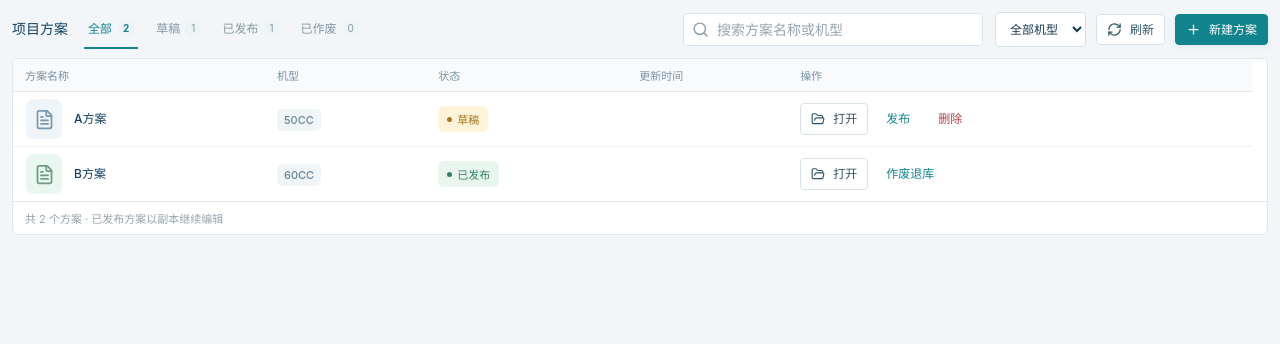
Test: experience regressions › combines status, machine and name filters without mixing machines
Click the button "草稿 1" at (178, 30), box [152,10,204,49]
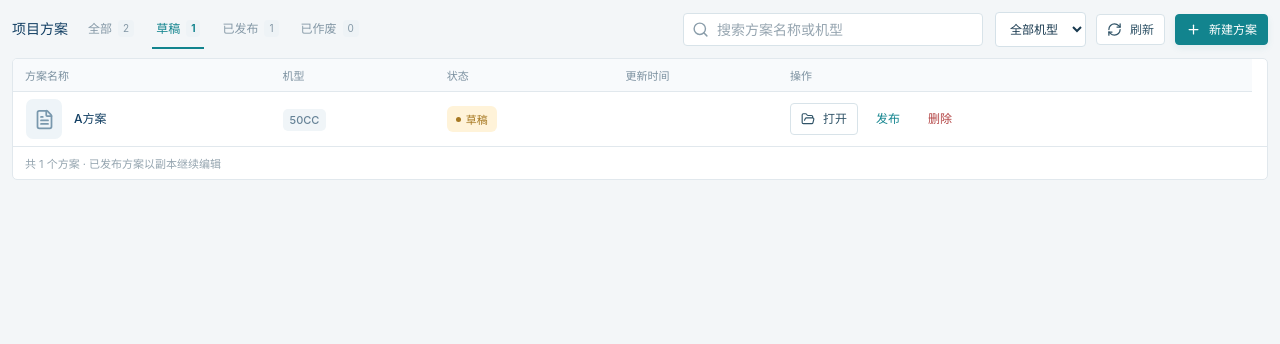
Expected: the text "A方案" is shown, [74,111,106,126]
Expected: the button "B方案" is gone
Select "60CC" in the dropdown named "方案机型" at (1040, 30), box [995,12,1086,47]
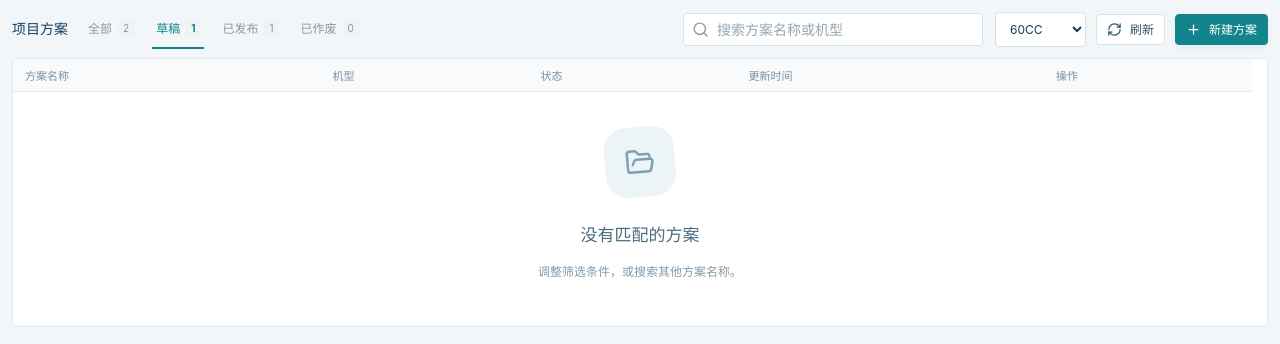
Expected: the heading "没有匹配的方案" is shown, [580,221,700,246]
